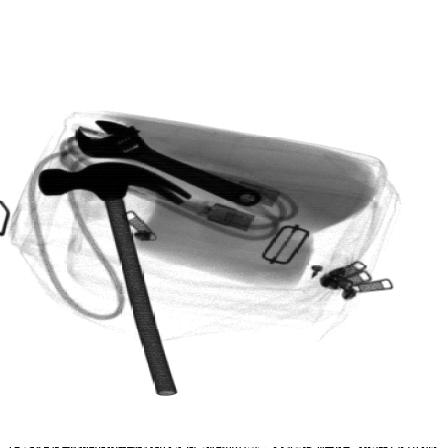Hammer: (37, 163, 195, 397)
Wrench: (73, 120, 263, 207)
